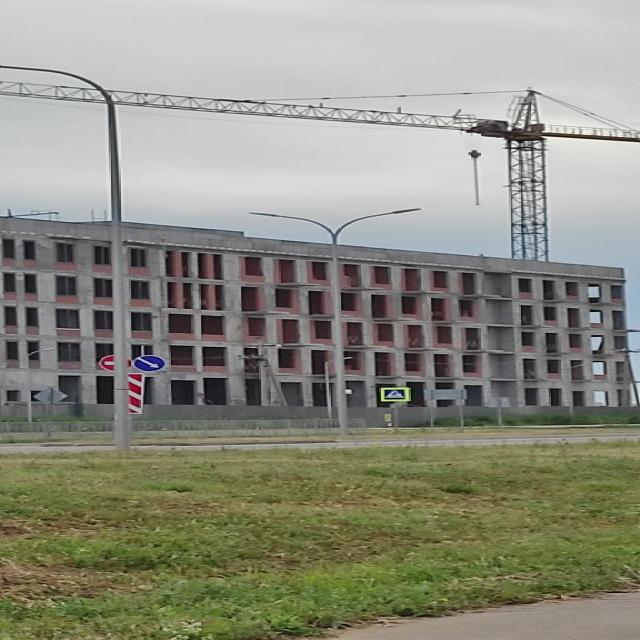Building: (0, 217, 633, 407)
